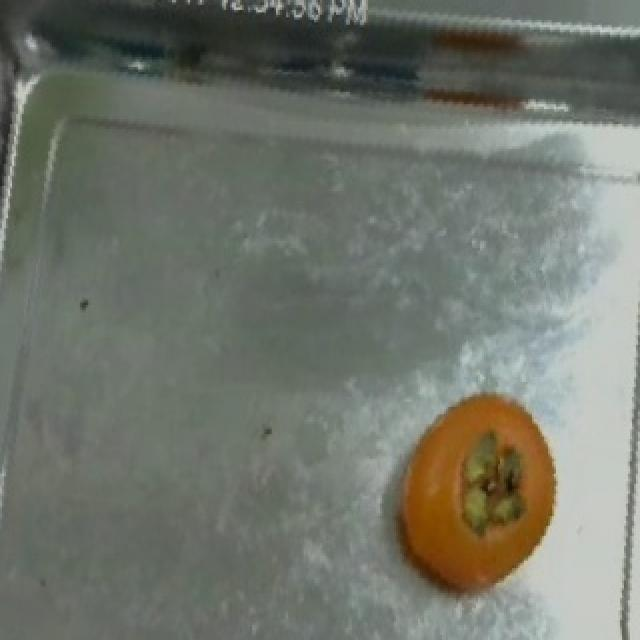Fruit: (380, 372, 574, 615)
